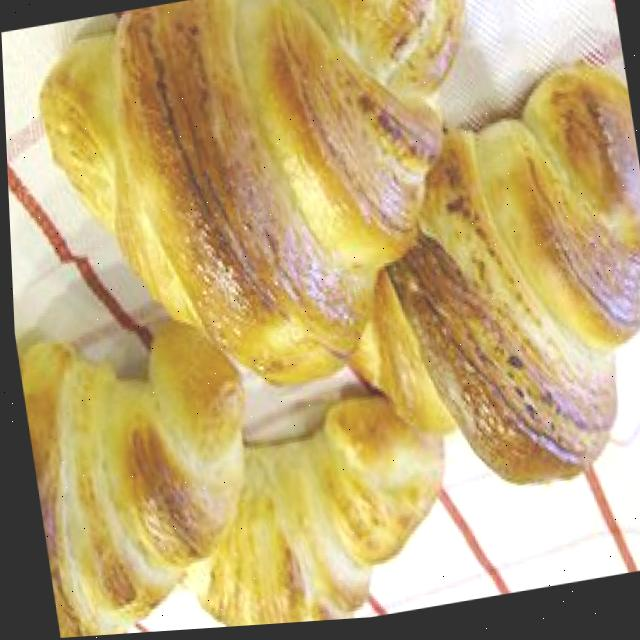面包点心: (24, 0, 521, 460)
